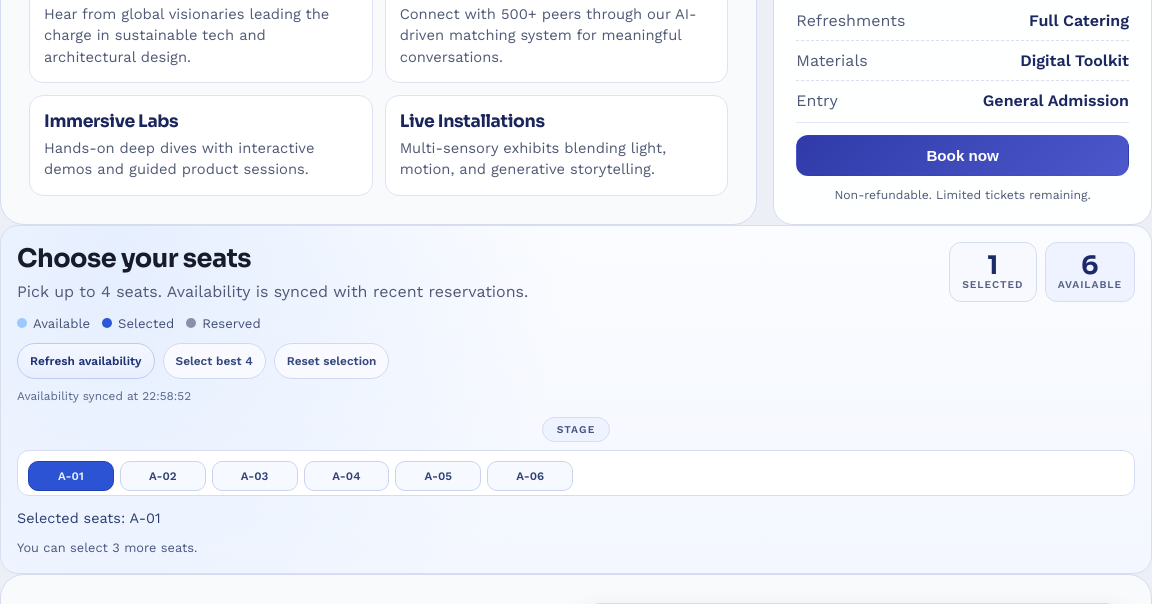
Test: ReservationPage seat-map action bar › shows an error toast when refresh fails
(page scrolled)
Step 1. Click the button "Refresh availability" → point(86, 361), box 17,343 -> 154,379
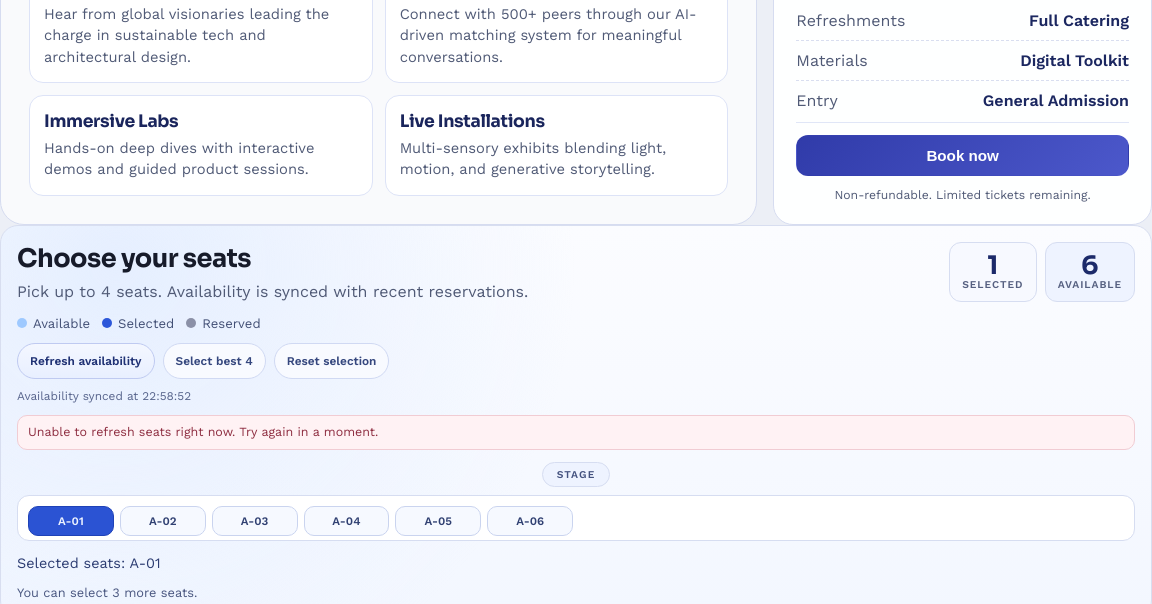
Expected: the text "Selected seats: A-01" is shown, 17,555 -> 161,571
Now the text "Unable to refresh seats right now. Try again in a moment." is shown, box 17,415 -> 1135,450
